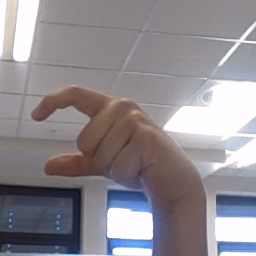C: (28, 83, 192, 201)
